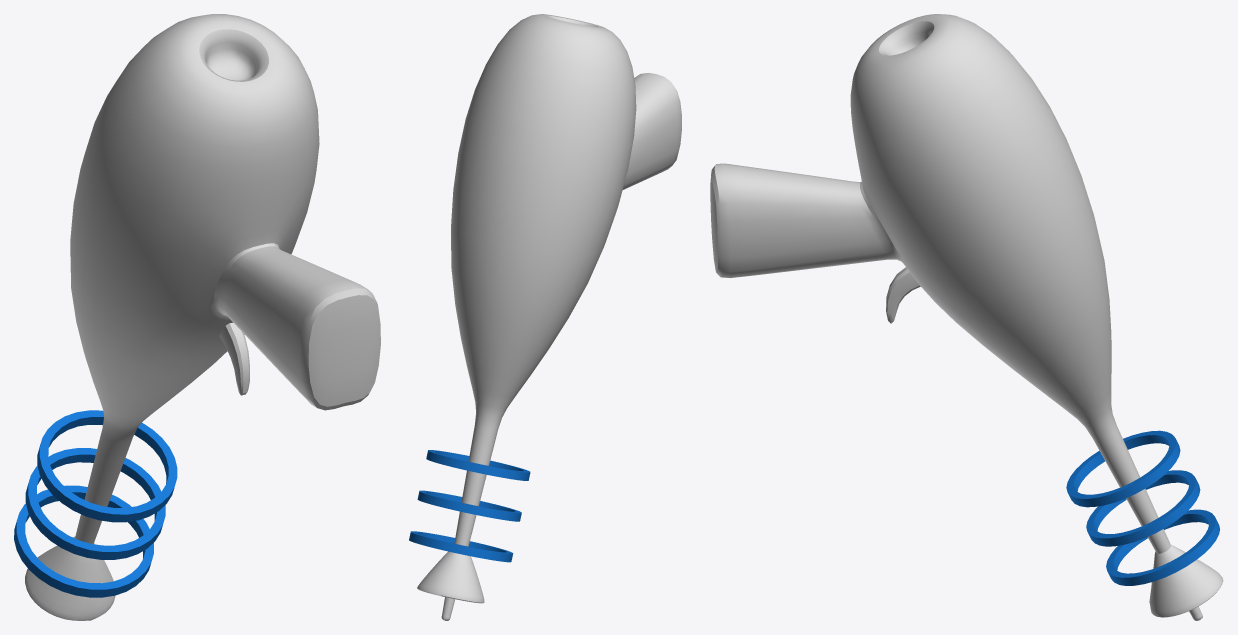
File: raygun.fbx
The picture shows the model from 3 angles, left to right: view 1: azimuth 30°, elevation 25°; view 2: azimuth 150°, elevation 25°; view 3: azimuth 270°, elevation 25°; orthographic projection. The views are drawn at different scales.
Visible parts, largest first — view 1: gun, trigger; view 2: gun; view 3: gun, trigger.
Boxes of the visible parts, x1,y1,x2,y2 form: gun: (14,14,380,620); trigger: (219,322,249,395); gun: (409,14,681,620); gun: (710,14,1223,620); trigger: (886,267,920,323).
Size of the model in its own units: 9.35 by 31.58 by 24.57.
